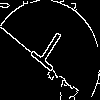T: (25, 25, 70, 80)
